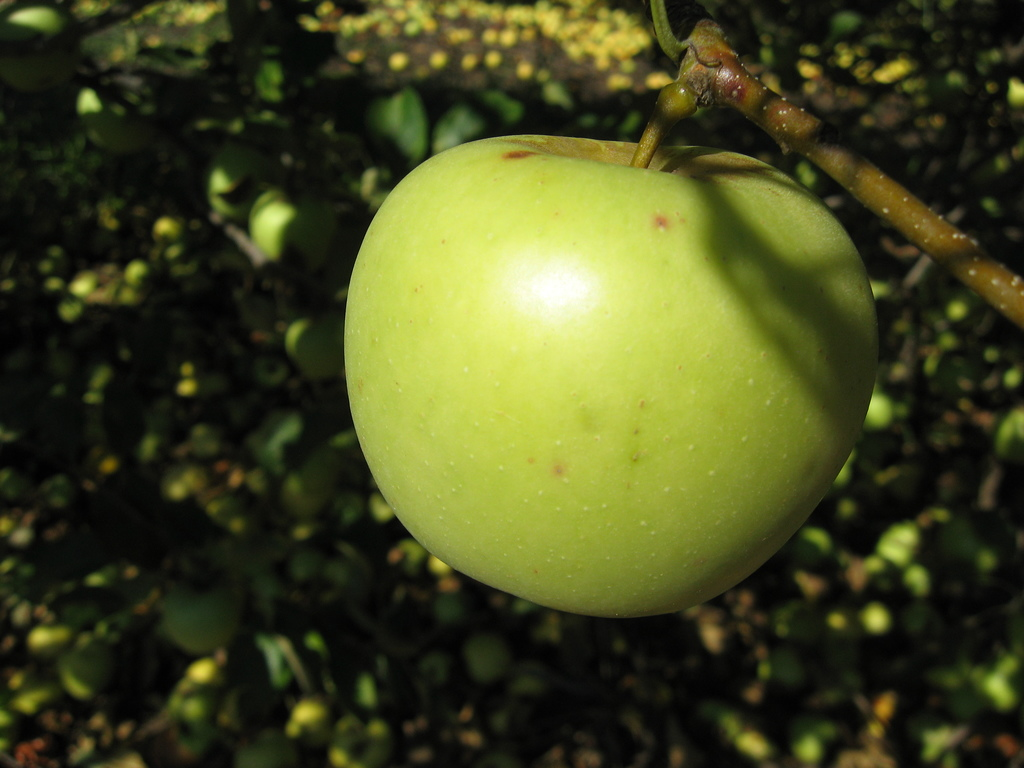Apple: (355, 126, 866, 620)
